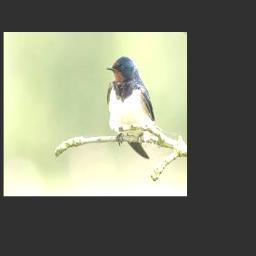Swallow: (105, 56, 154, 159)
